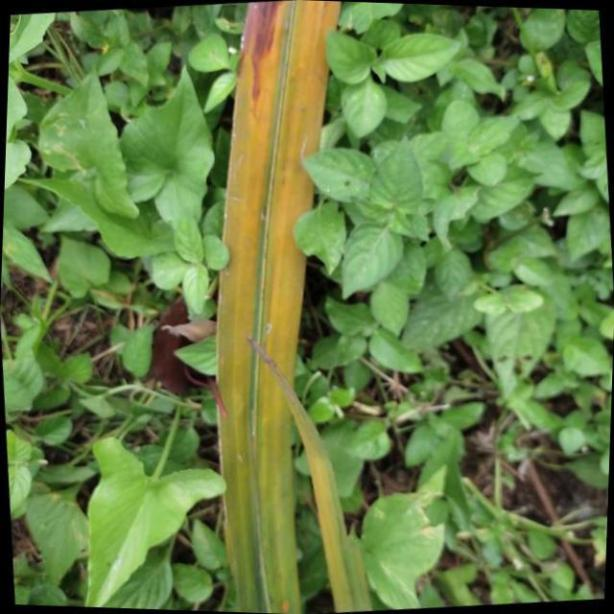Megnesium: (218, 0, 346, 614)
